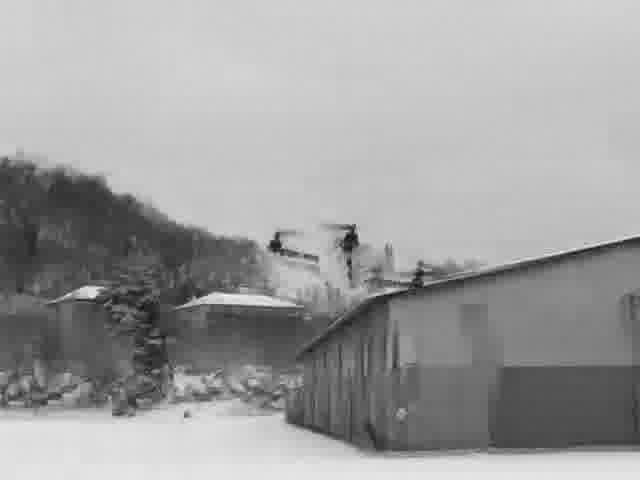drone: (262, 205, 442, 319)
